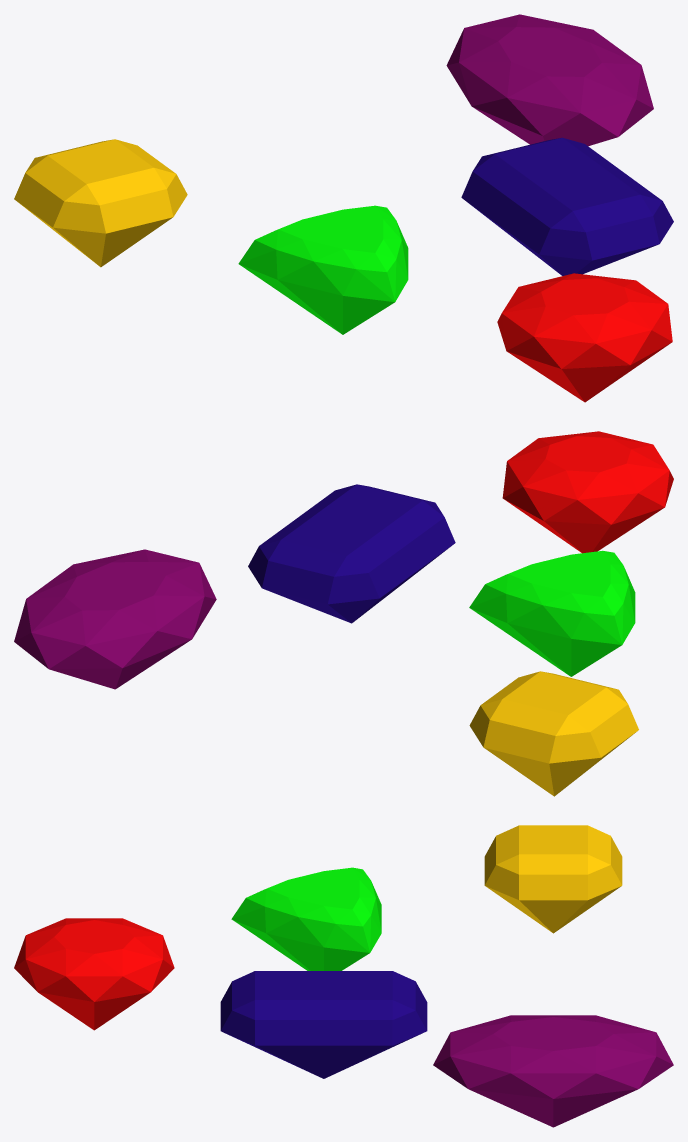
Rendered from treasure.obj.
3 views of the same model, one above another, from view 1: azimuth 30°, elevation 25°; view 2: azimuth 150°, elevation 25°; view 3: azimuth 270°, elevation 25° (orthographic). The views are drawn at different scales.
Visible parts, largest first — view 1: Treasure; view 2: Treasure; view 3: Treasure.
Boxes of the visible parts, bbox=[...] form: Treasure: bbox=[14, 14, 673, 402]; Treasure: bbox=[14, 431, 673, 796]; Treasure: bbox=[14, 825, 673, 1127].
Size of the model in its own units: 1.59 by 0.27 by 1.73.
